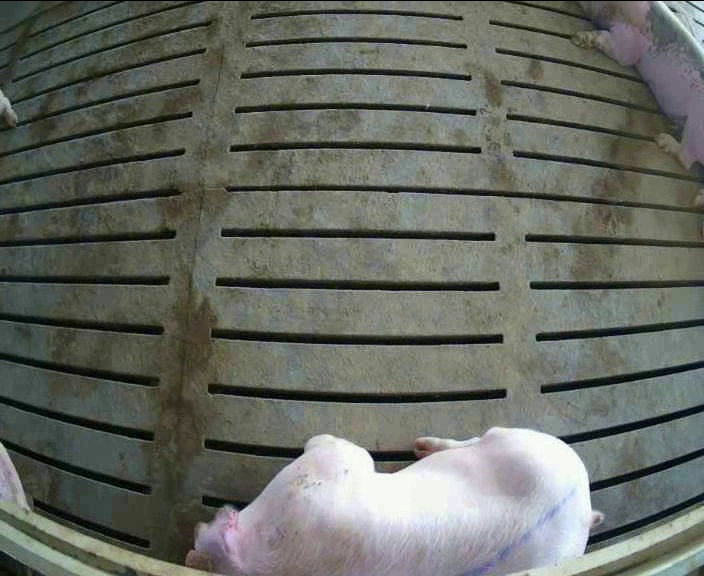pig: (187, 427, 600, 574), (573, 2, 703, 168)
